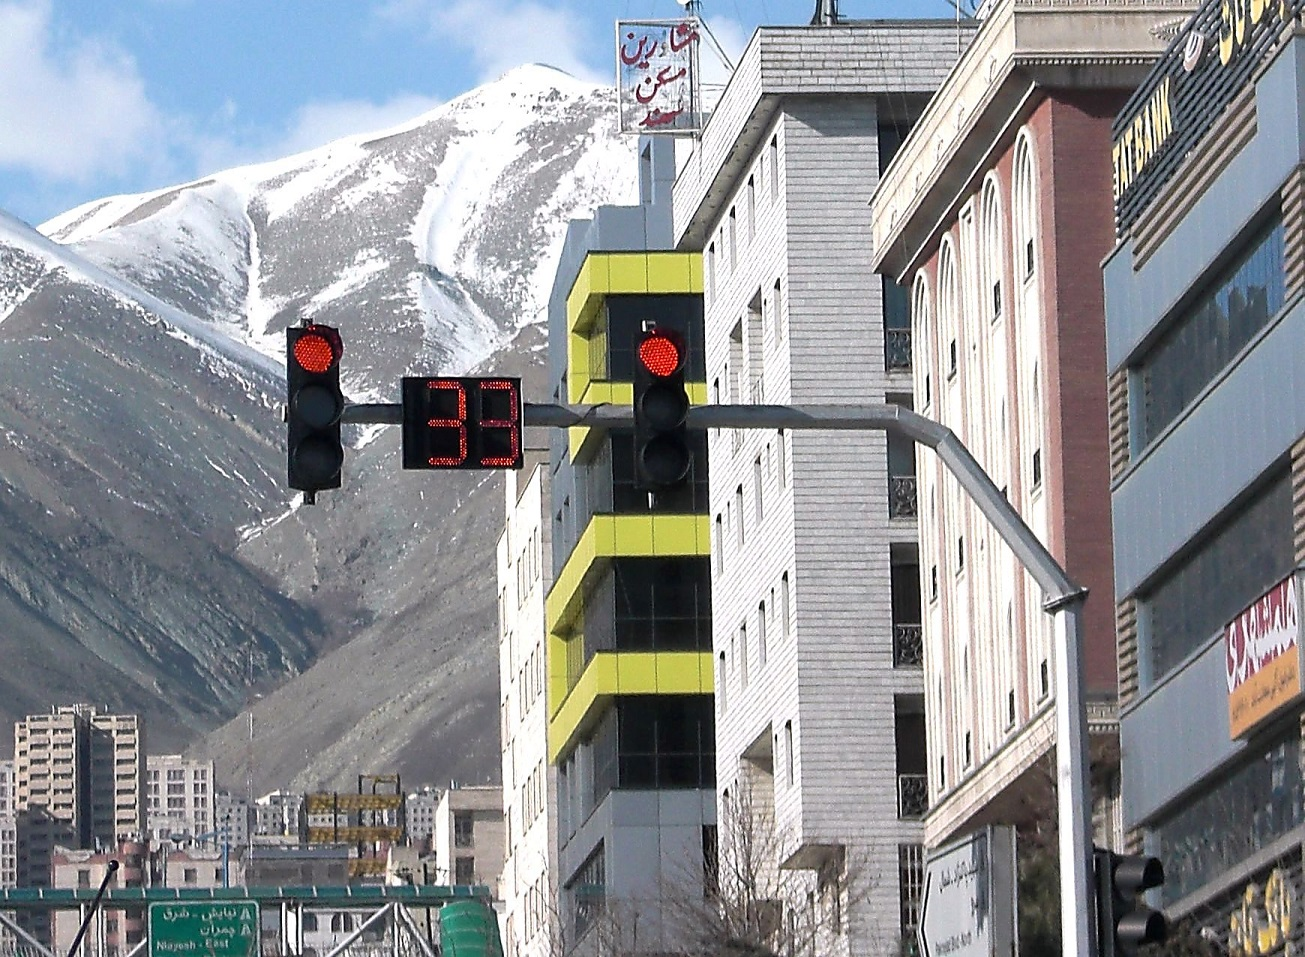traffic_light: (282, 322, 347, 493), (631, 327, 693, 488)
